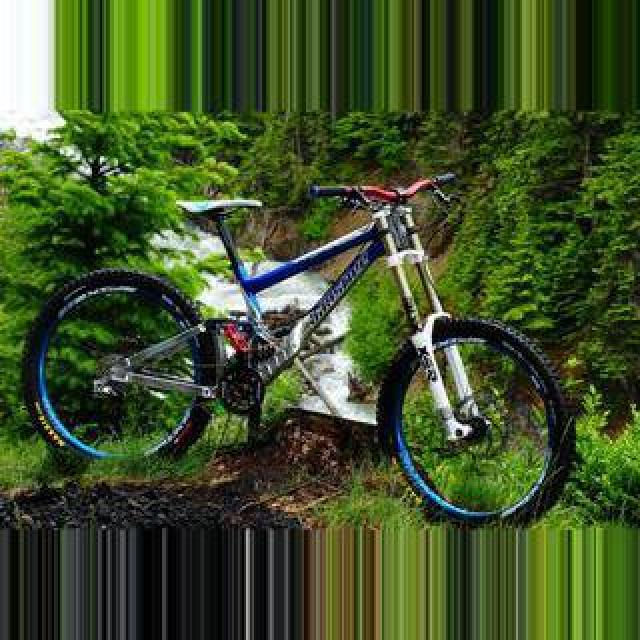Person: (10, 158, 590, 508)
